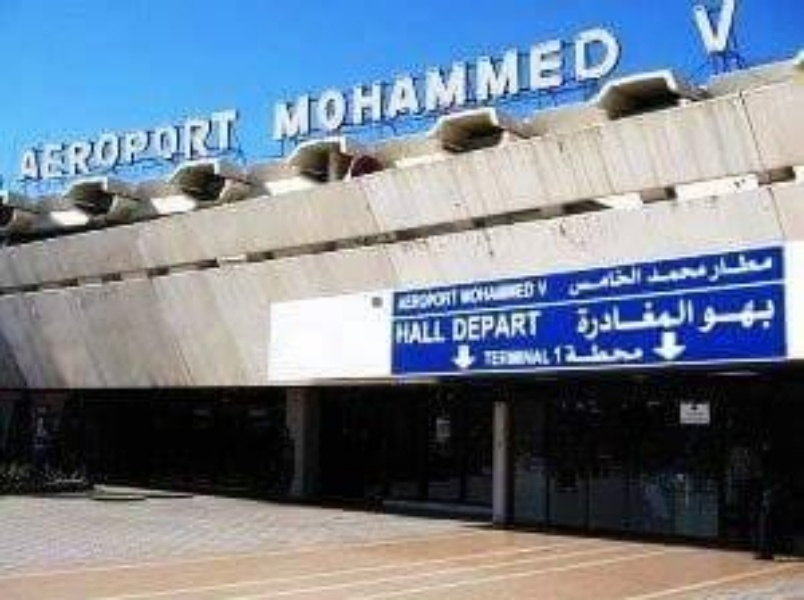text: (273, 22, 288, 145), (289, 22, 304, 145), (305, 22, 320, 145), (321, 22, 336, 145), (337, 22, 352, 145), (353, 22, 368, 145), (369, 22, 384, 145), (385, 22, 400, 145), (401, 22, 416, 145), (417, 22, 432, 145), (433, 22, 448, 145), (449, 22, 464, 145), (465, 22, 480, 145), (481, 22, 496, 145), (497, 22, 512, 145), (513, 22, 528, 145), (529, 22, 544, 145), (545, 22, 560, 145), (561, 22, 576, 145), (577, 22, 592, 145), (593, 22, 608, 145), (609, 22, 622, 145), (17, 108, 32, 185), (33, 108, 48, 185), (49, 108, 64, 185), (65, 108, 80, 185), (81, 108, 96, 185), (97, 108, 112, 185), (113, 108, 128, 185), (129, 108, 144, 185), (145, 108, 160, 185), (161, 108, 176, 185), (177, 108, 192, 185), (193, 108, 208, 185), (209, 108, 224, 185), (225, 108, 239, 185), (689, 1, 704, 57), (705, 1, 720, 57), (721, 1, 736, 57), (577, 292, 592, 341), (593, 292, 608, 341), (609, 292, 624, 341), (625, 292, 640, 341), (641, 292, 656, 341), (657, 292, 672, 341), (673, 292, 688, 341), (705, 298, 720, 335), (721, 298, 736, 335), (737, 298, 752, 335), (753, 298, 768, 335), (529, 309, 545, 343), (465, 309, 480, 343), (481, 309, 496, 343), (497, 309, 512, 343), (513, 309, 528, 343), (721, 250, 736, 282), (737, 250, 752, 282), (753, 250, 768, 282), (577, 263, 592, 295), (593, 263, 608, 295), (609, 263, 624, 295), (625, 263, 640, 295), (465, 276, 480, 306), (481, 276, 496, 306), (497, 276, 512, 306), (513, 276, 528, 306), (451, 309, 464, 343), (657, 258, 672, 287), (673, 258, 688, 287), (689, 258, 704, 287), (563, 263, 576, 295), (401, 284, 416, 311), (417, 284, 432, 311), (433, 284, 448, 311), (708, 250, 720, 282), (401, 319, 416, 343), (417, 319, 432, 343), (433, 319, 448, 343), (577, 341, 592, 365), (593, 341, 608, 365), (609, 341, 624, 365), (625, 341, 640, 365), (644, 258, 656, 287), (695, 298, 704, 335), (769, 298, 778, 335), (497, 346, 512, 367), (513, 346, 528, 367), (529, 346, 544, 367), (563, 341, 576, 365), (529, 276, 539, 306), (689, 292, 695, 341), (483, 346, 496, 367), (571, 292, 576, 341), (684, 1, 688, 57), (550, 341, 560, 362), (545, 346, 555, 367), (769, 250, 775, 282), (534, 276, 544, 295), (449, 284, 456, 311), (737, 1, 740, 57), (394, 284, 400, 311), (459, 276, 464, 306), (394, 319, 400, 343), (271, 22, 272, 145), (561, 341, 566, 362), (641, 263, 644, 295), (545, 276, 550, 295), (705, 258, 708, 287), (641, 341, 644, 365)
